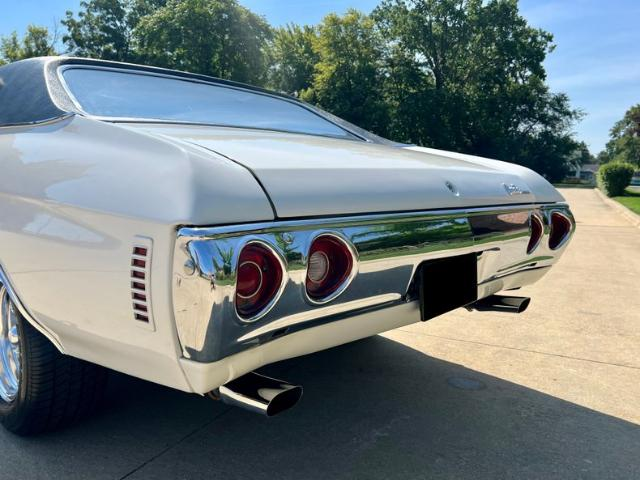chevelle-1972: (0, 58, 575, 434)
